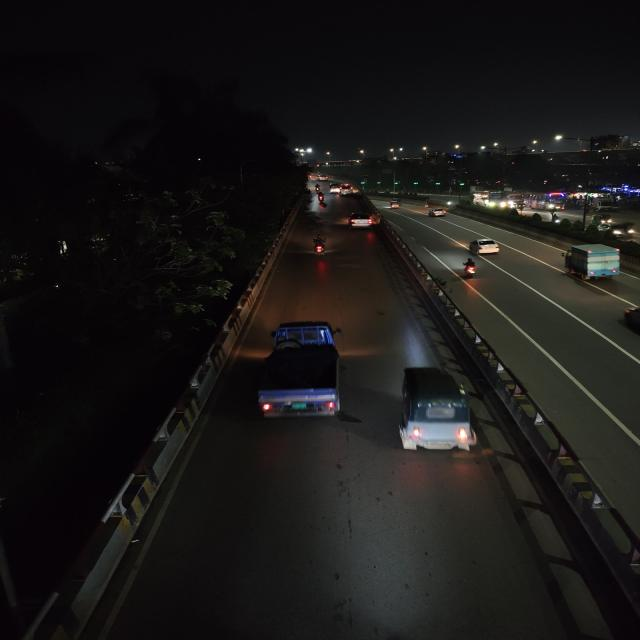bus: (473, 189, 514, 209), (522, 192, 565, 210)
car: (468, 236, 501, 256), (345, 211, 378, 230), (426, 206, 449, 219), (339, 185, 355, 195), (315, 174, 328, 181)
cng: (392, 362, 478, 458), (608, 221, 636, 240), (592, 214, 614, 228), (329, 184, 339, 194)
motorcycle: (308, 232, 330, 258), (460, 256, 480, 280), (387, 199, 402, 209), (317, 197, 328, 210), (316, 192, 326, 204)
pickup_van: (255, 319, 351, 424)
truck: (560, 242, 624, 282)
